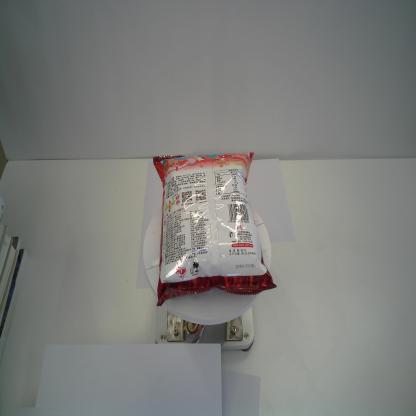Puffed Food: (153, 152, 278, 307)
